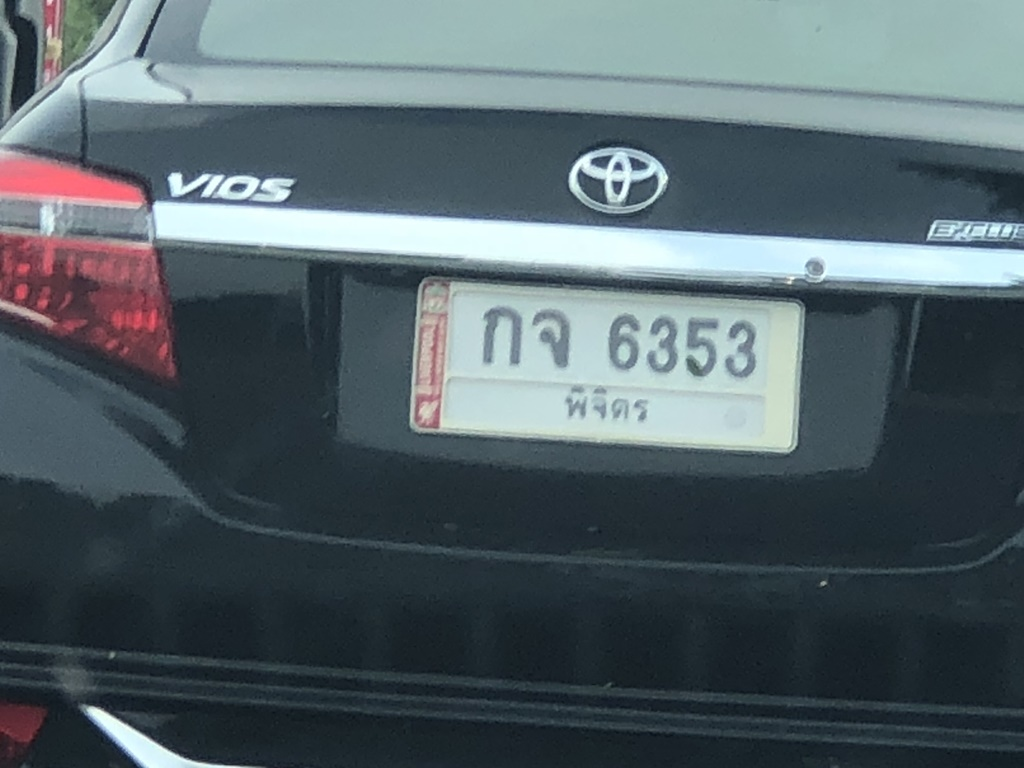six: (604, 300, 646, 379)
